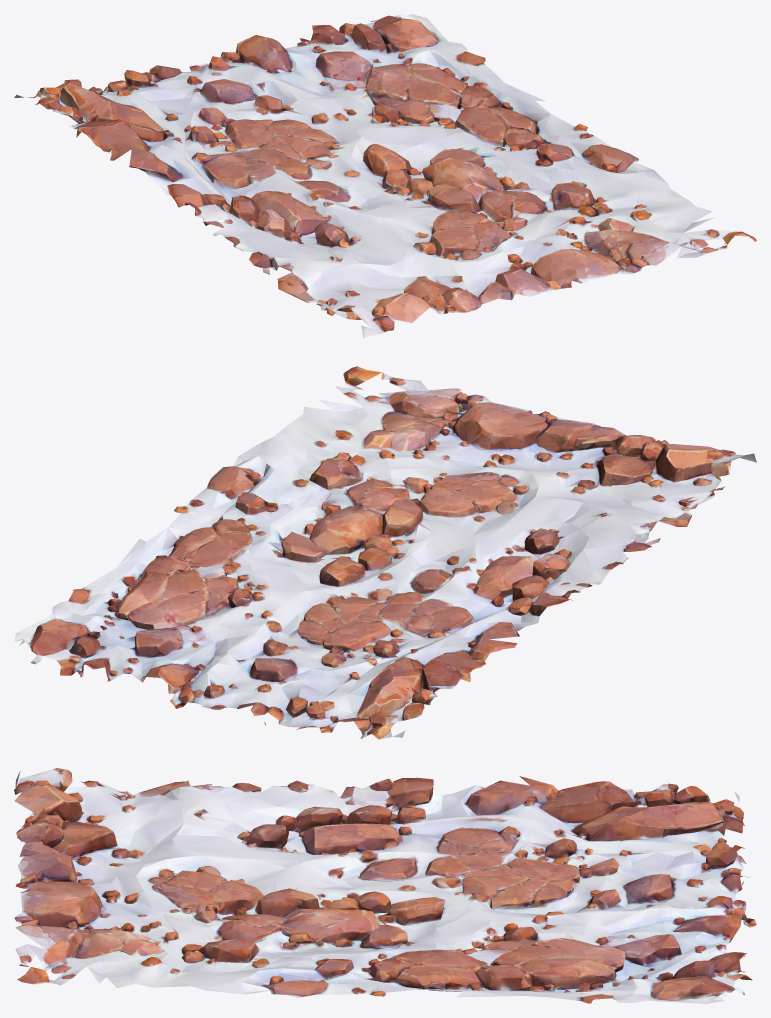
File: suelonevado2.glb
3 renders of one model, top to bottom at view 1: azimuth 30°, elevation 25°; view 2: azimuth 150°, elevation 25°; view 3: azimuth 270°, elevation 25°, orthographic. The views are drawn at different scales.
Parts seen in each view (by area): view 1: SueloNevado2; view 2: SueloNevado2; view 3: SueloNevado2.
Boxes of the visible parts, x1,y1,x2,y2 form: SueloNevado2: (14,14,756,337); SueloNevado2: (14,366,756,739); SueloNevado2: (14,768,756,1003).
Bounding box in the file's own units: 0.6964 × 0.0827 × 1.05.
Materials: 1 (1 with a texture image).
